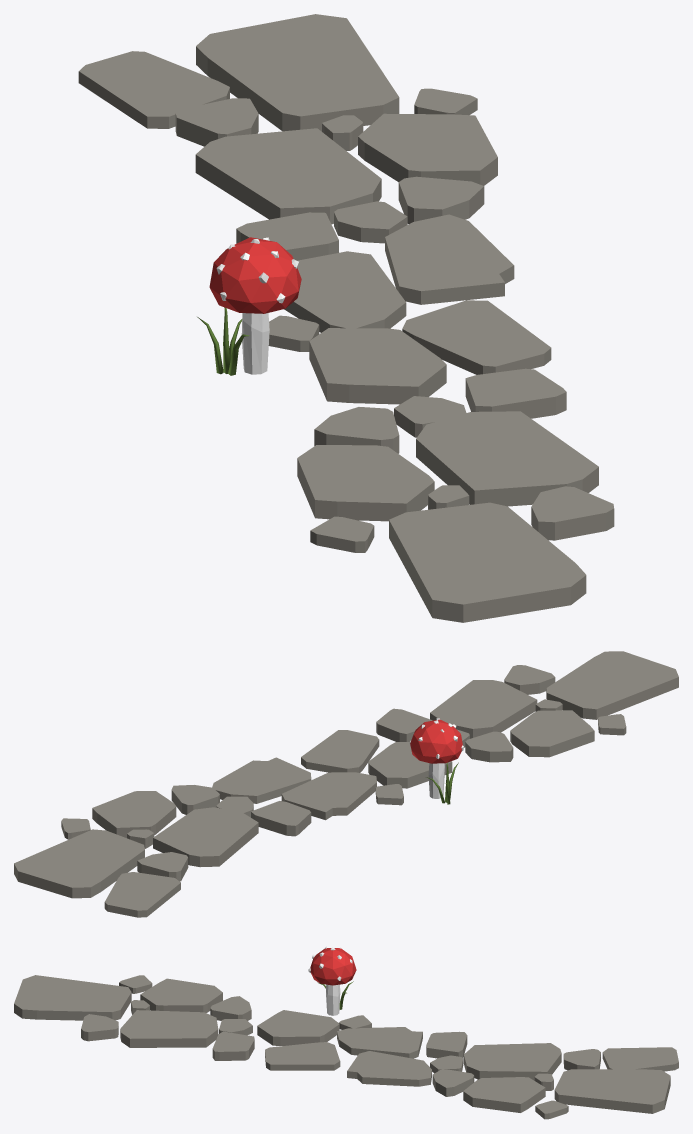
The model's file is Tile_08.fbx.
The picture shows the model from 3 angles, top to bottom: view 1: azimuth 30°, elevation 25°; view 2: azimuth 150°, elevation 25°; view 3: azimuth 270°, elevation 25°; orthographic projection. The views are drawn at different scales.
Parts seen in each view (by area): view 1: Tile_08; view 2: Tile_08; view 3: Tile_08.
Part boxes in pixels (x1,y1,x2,y2): Tile_08: (78,14,614,622); Tile_08: (14,651,678,917); Tile_08: (14,946,678,1119).
Size of the model in its own units: 111 by 24.96 by 226.
